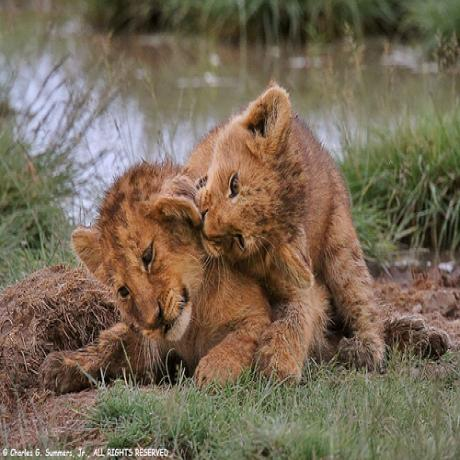Lion: (186, 83, 387, 387), (70, 156, 269, 388)
